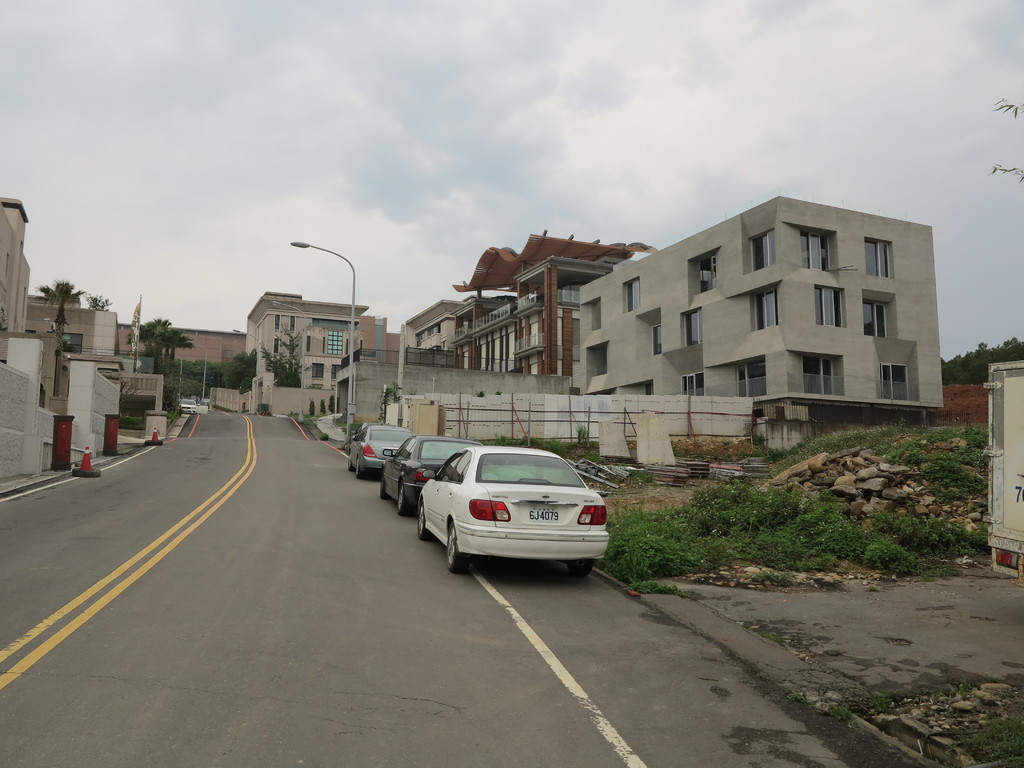Car: (378, 444, 611, 584), (376, 426, 482, 514), (343, 420, 421, 478), (177, 399, 207, 415)
